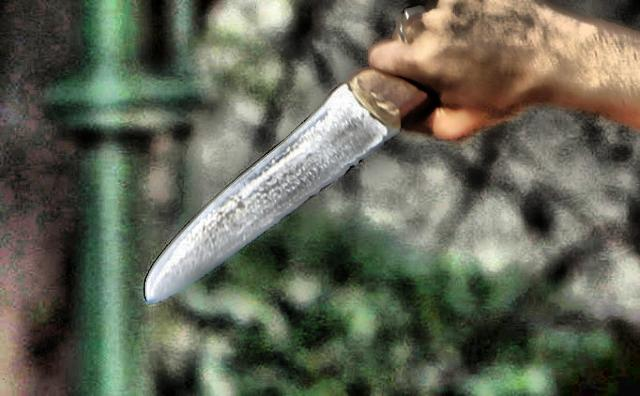knife: (114, 34, 460, 316)
